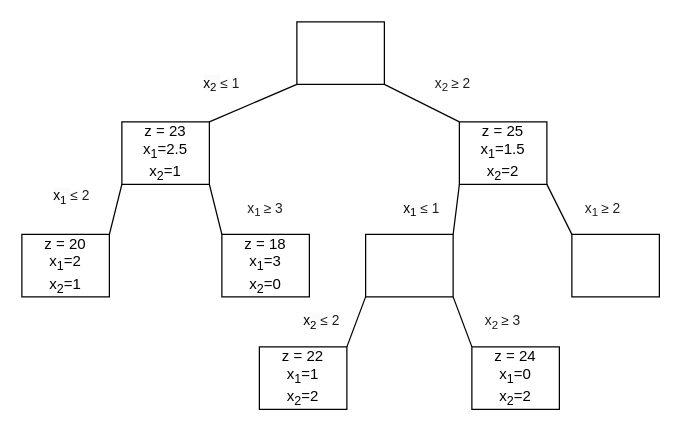
The diagram is 681 pixels wide and 431 high, and some of its shapes have lost their labels. Each missing label, with the box of its shape:
No Solution: (571, 233, 659, 297)
z = 24.6 x 1 =1 x 2 =2.3: (364, 233, 453, 297)
z = 25.5 x 1 =2.25 x 2 =1.5: (296, 21, 384, 84)
